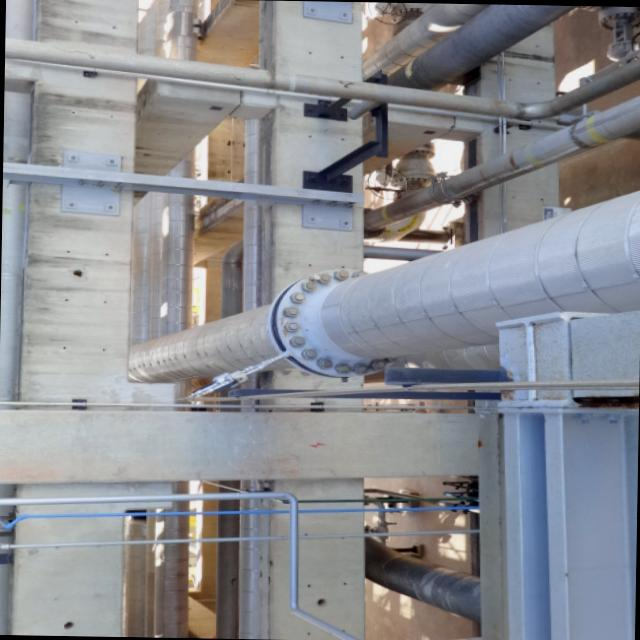gas: (128, 193, 640, 381), (5, 38, 640, 119), (367, 95, 640, 229), (385, 3, 577, 90), (363, 2, 490, 80), (367, 544, 482, 620)
